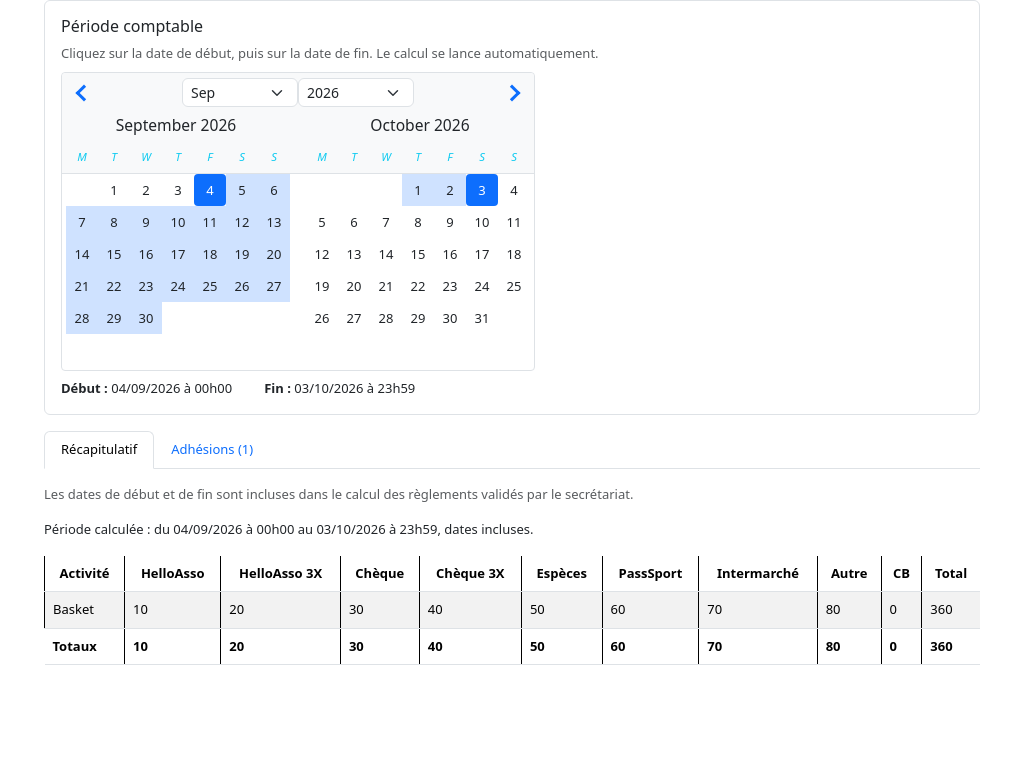
Test: ComptaComponent › opens the adhesion tab and shows the payments used for the summary
Expected: the tab "Récapitulatif" is shown, [44,431,154,469]
Click the tab "Adhésions (1)" at (212, 450), box [154,431,270,469]
(page scrolled)
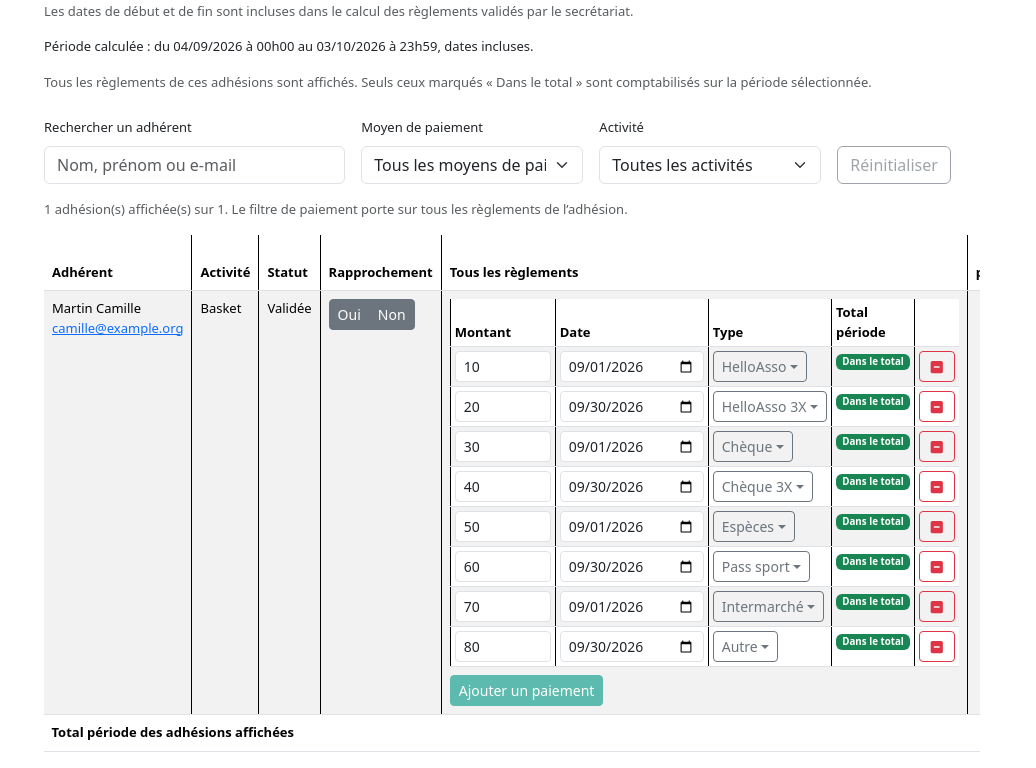
Expected: the panel shows "Martin Camille", [52,299,141,317]
Expected: the column heading "Adhérent" is shown, [44,235,192,291]
